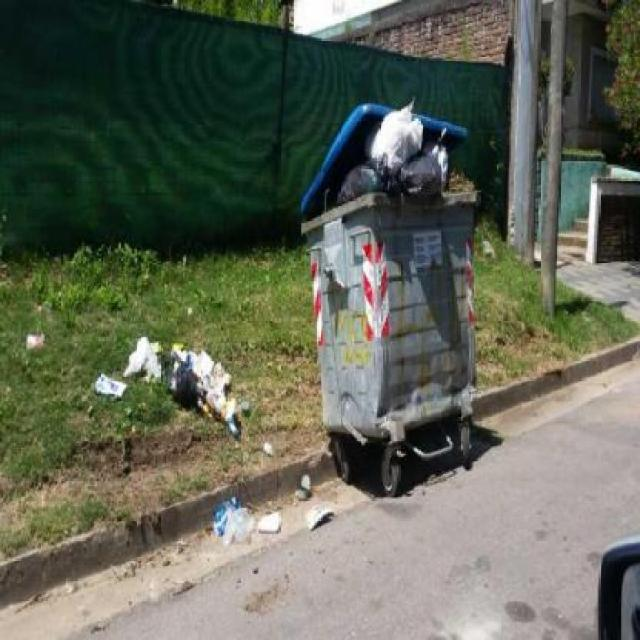garbage: (94, 326, 276, 463), (325, 105, 474, 204), (214, 476, 330, 532), (17, 325, 48, 353)
